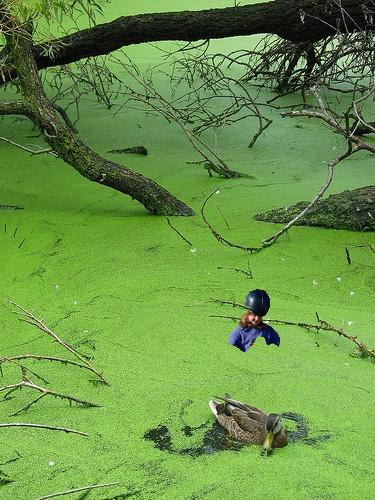tampered: (230, 290, 280, 352)
